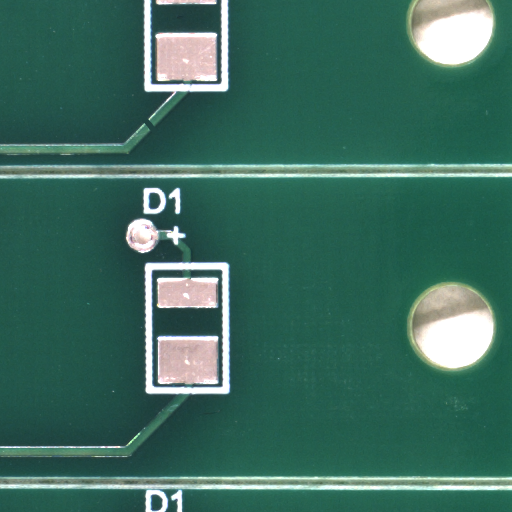Open_circuit: (149, 125, 161, 139)
